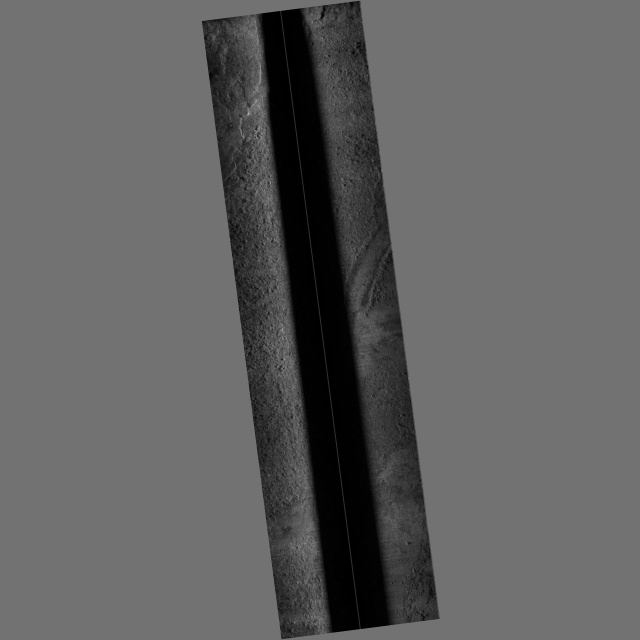Shipwreck: (396, 423, 406, 430)
